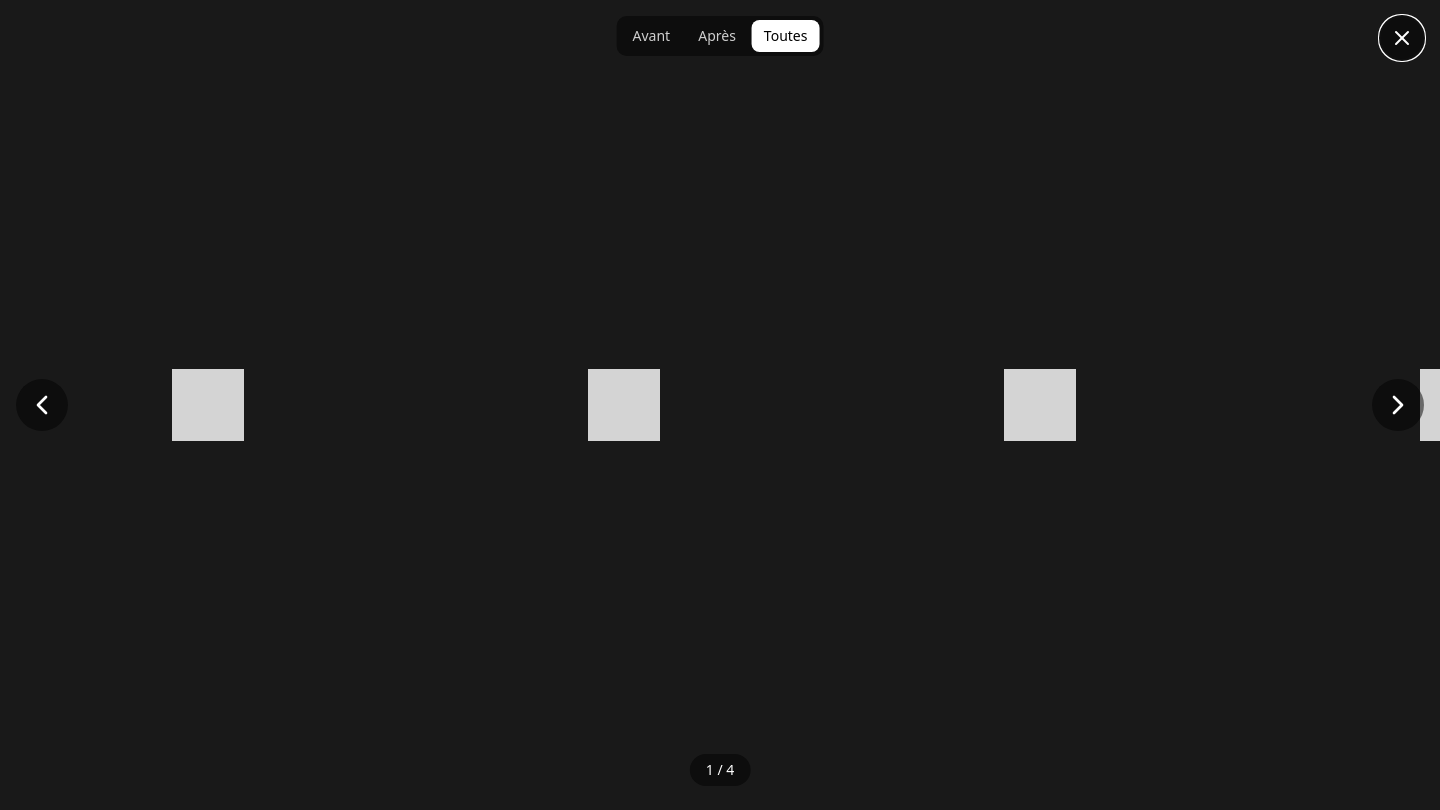
Test: PhotoGalleryDialog › filters to only before photos when Avant tab is clicked
Click the button "Avant": (651, 36) [621,20,682,52]
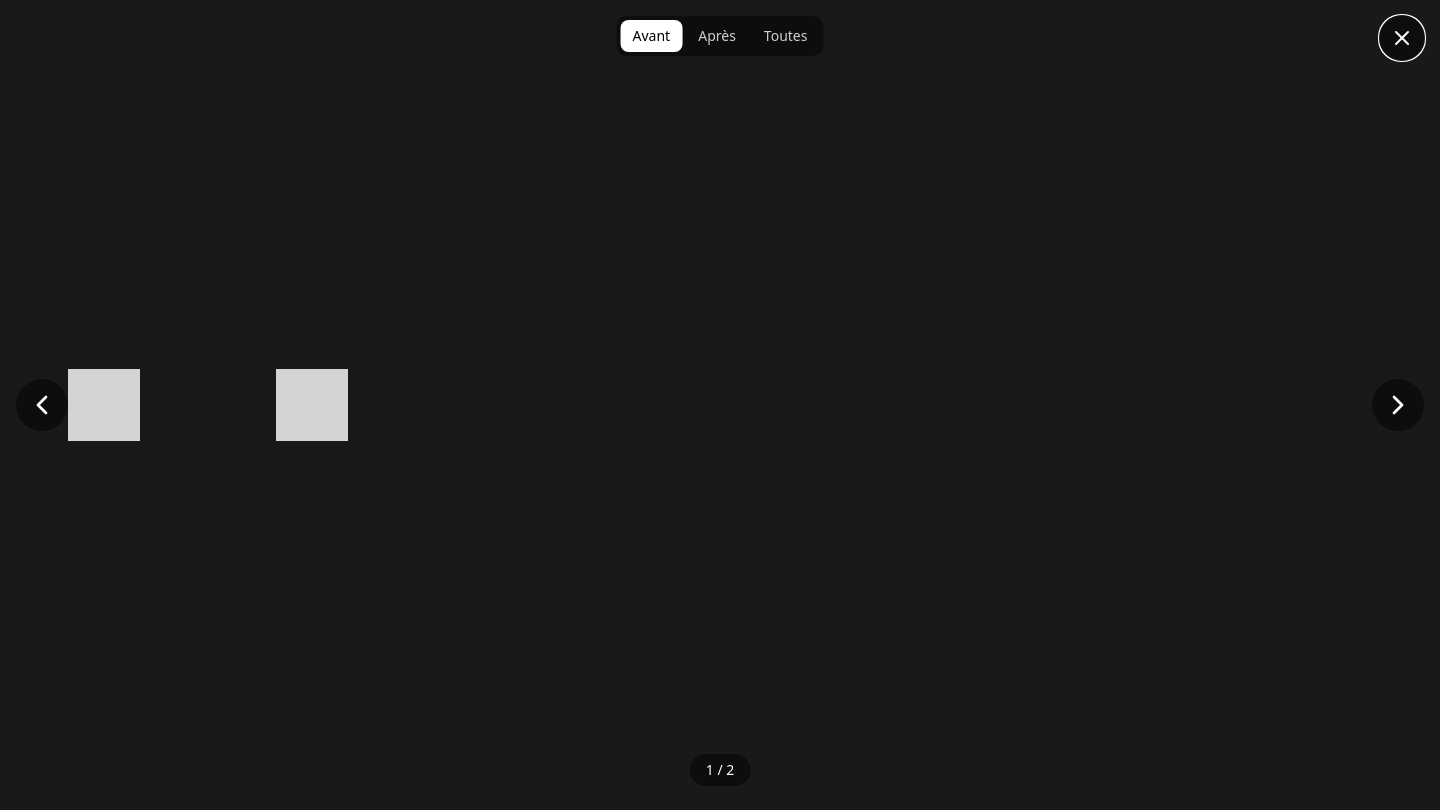
Check: the text "1 / 2" is shown, box [690,754,750,786]
